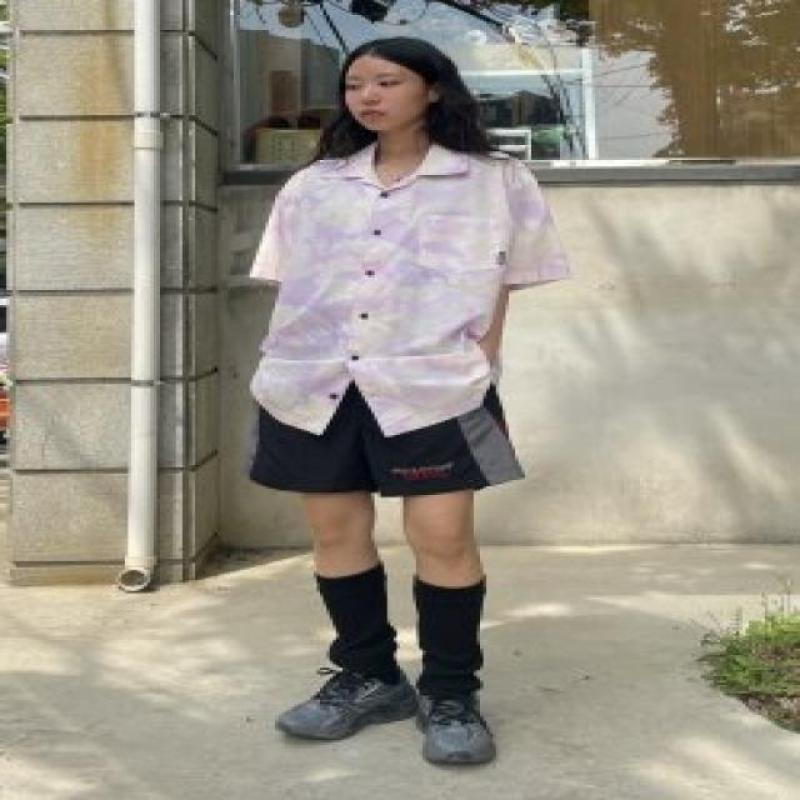Shorts: (247, 382, 530, 496)
short sleeve shirt: (249, 138, 575, 439)
